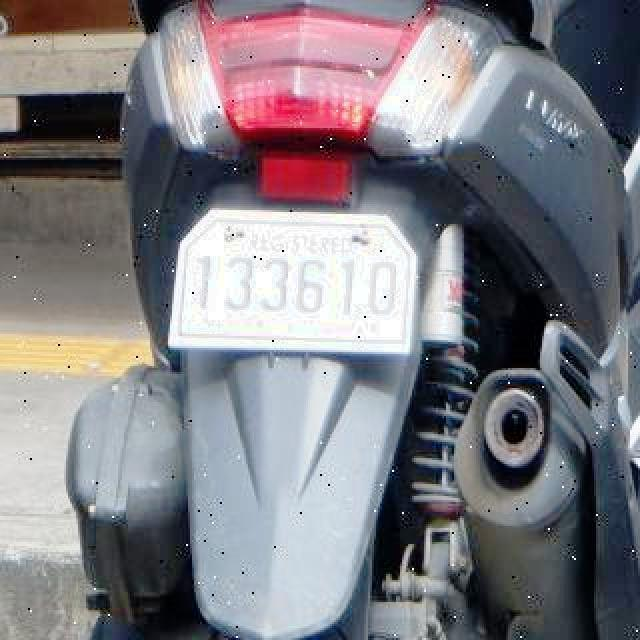license_plate: (178, 211, 421, 350)
